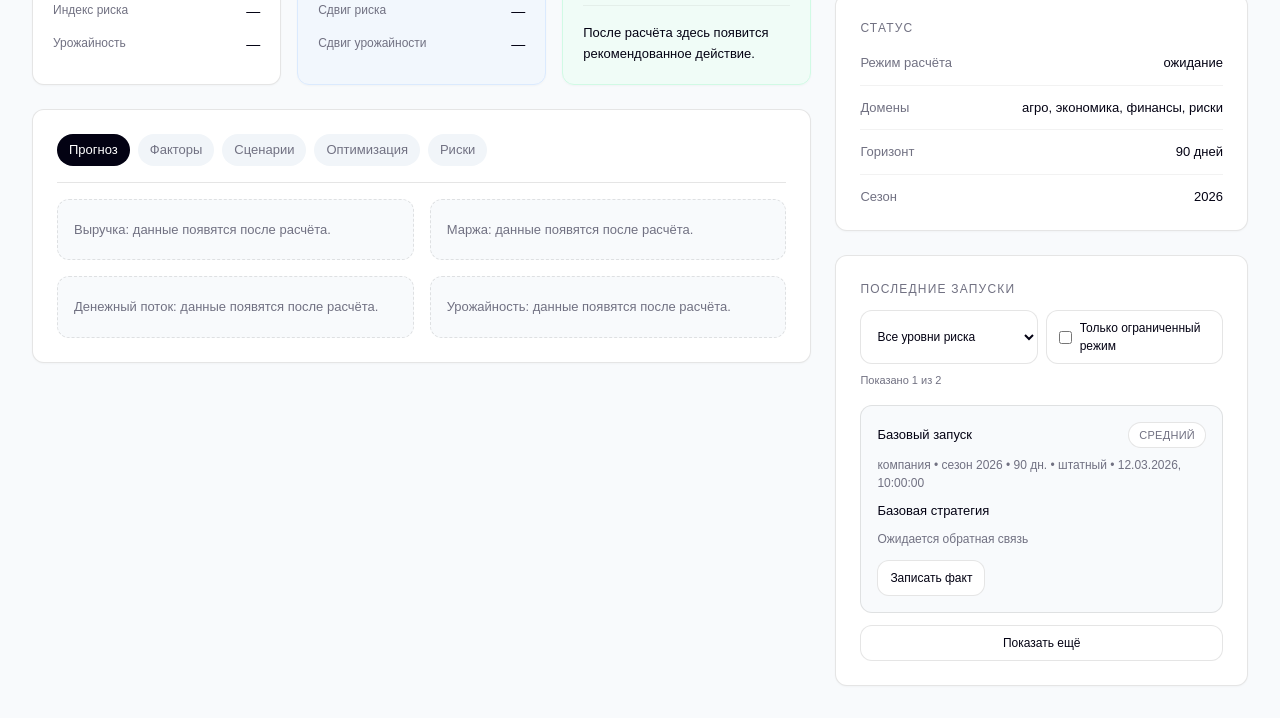
Test: StrategyForecastsPage › applies history filters and paginates recent runs
(page scrolled)
Check: the text "Базовая стратегия" is shown, box x1=877 y1=503 x2=989 y2=518
Check: the text "Показано 1 из 2" is shown, box x1=860 y1=374 x2=941 y2=386
Click the button "Показать ещё" at (1042,642), box x1=860 y1=624 x2=1223 y2=660
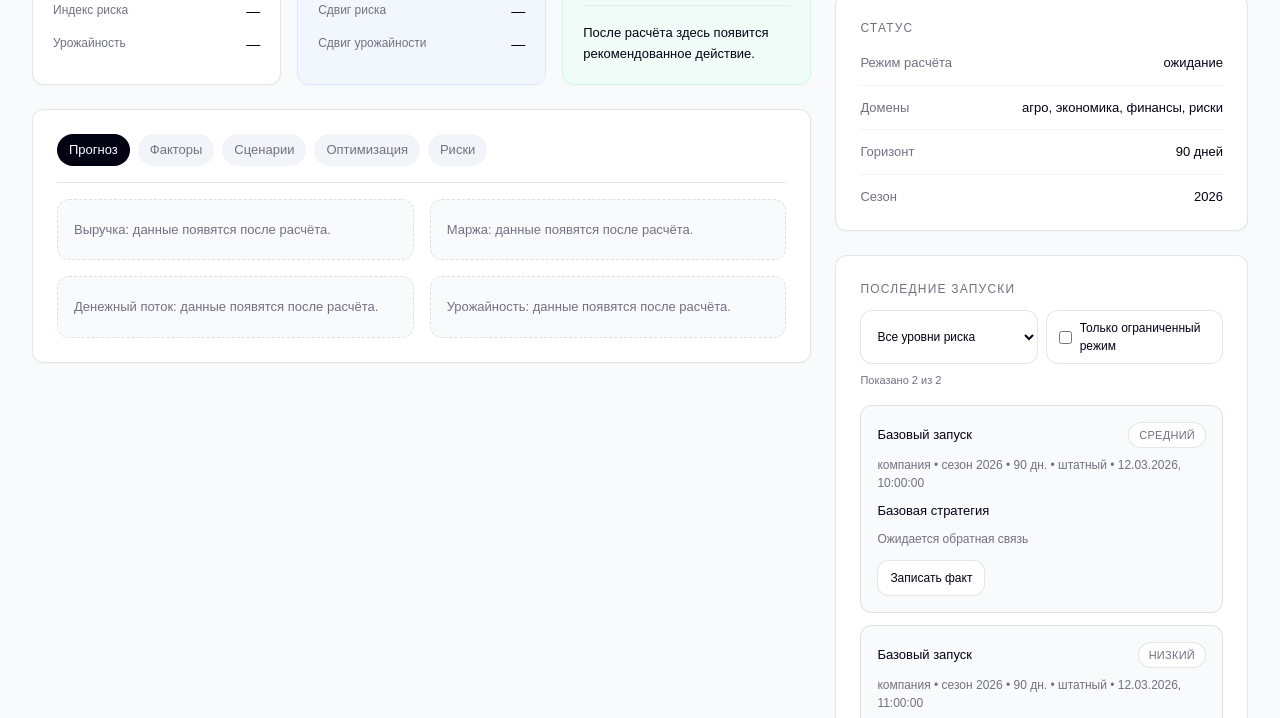
Check: the text "Показано 2 из 2" is shown, box x1=860 y1=374 x2=941 y2=386
Select "высокий" in the dropdown named "Фильтр уровня риска в истории" at (949,337), box x1=860 y1=310 x2=1038 y2=364
(page scrolled)
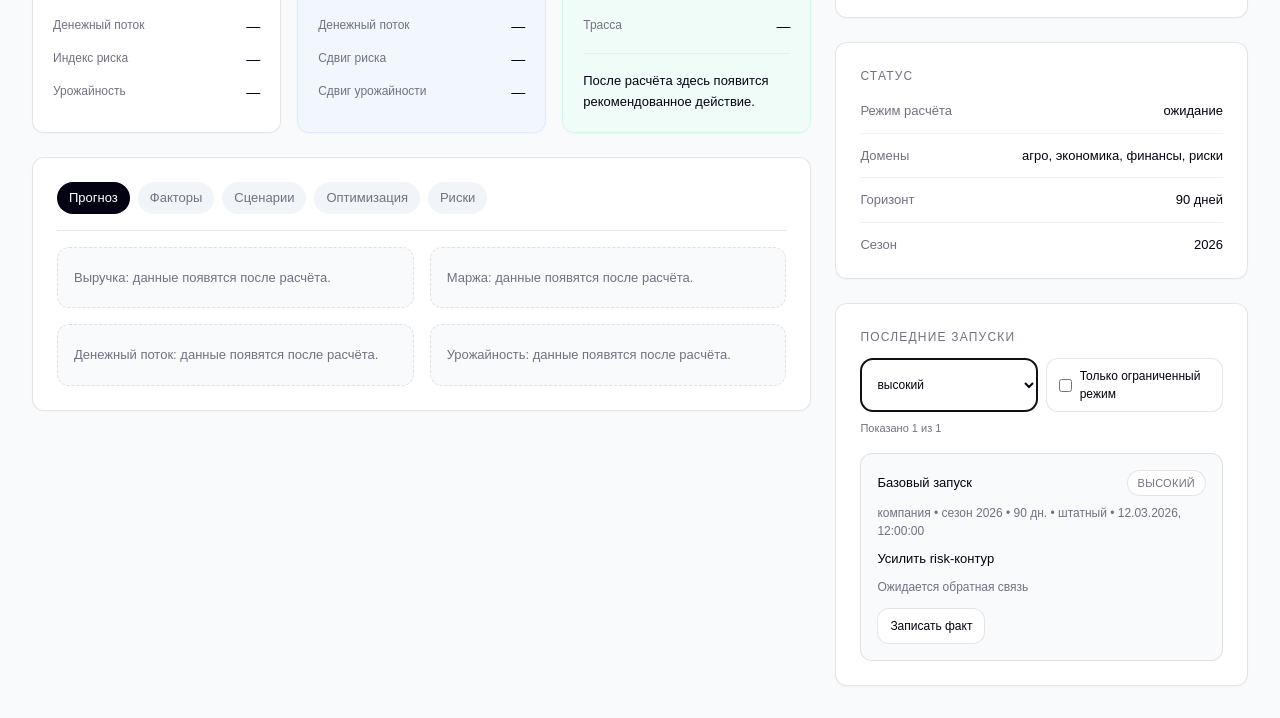
Check: the text "Усилить risk-контур" is shown, box x1=877 y1=551 x2=994 y2=566
